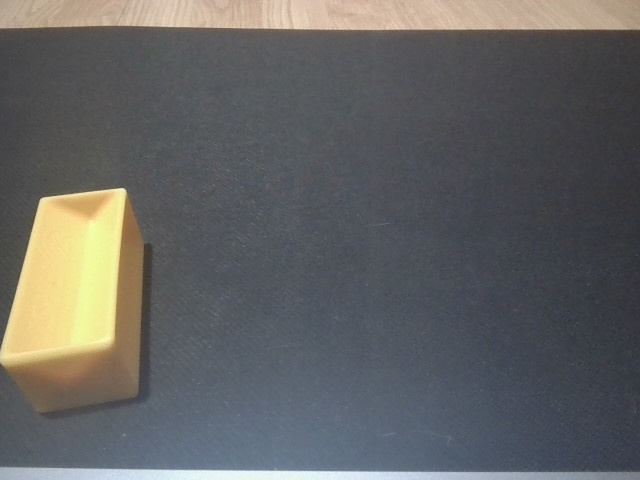YellowSample: (2, 185, 148, 418)
